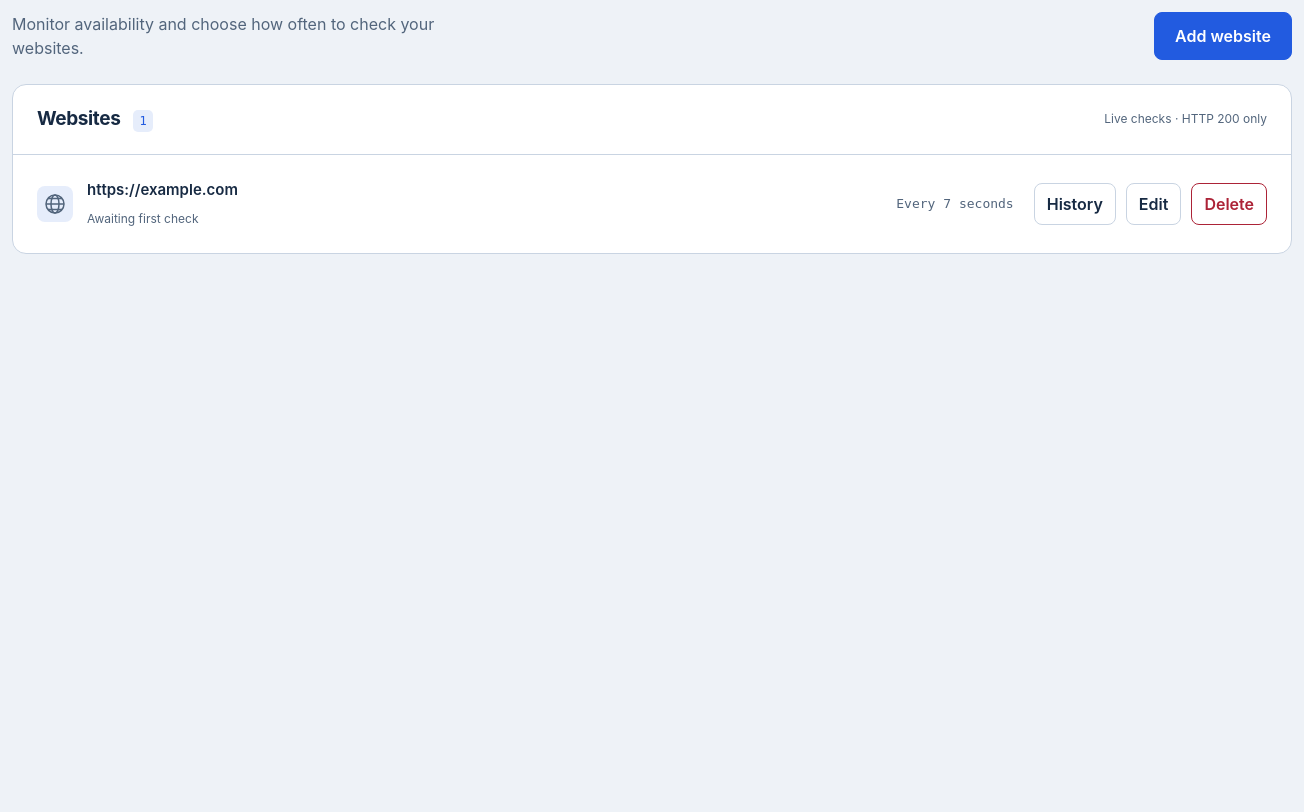
Test case: redirects when the session expires during edit
Expected: the text "https://example.com" is shown, [87,178,238,201]
Click the button "Edit" at (1154,204), box [1126,183,1181,225]
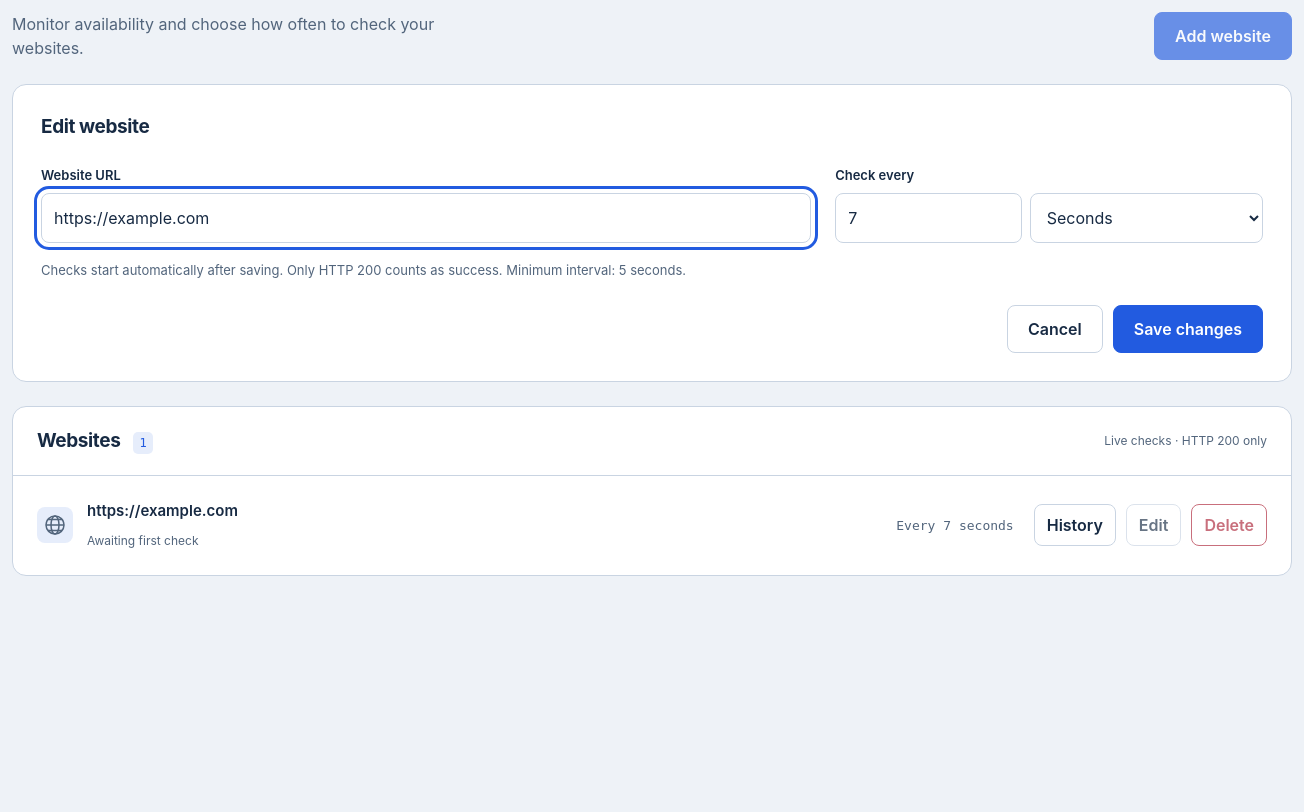
Click the button "Save changes" at (1188,328), box [1113,304,1263,352]
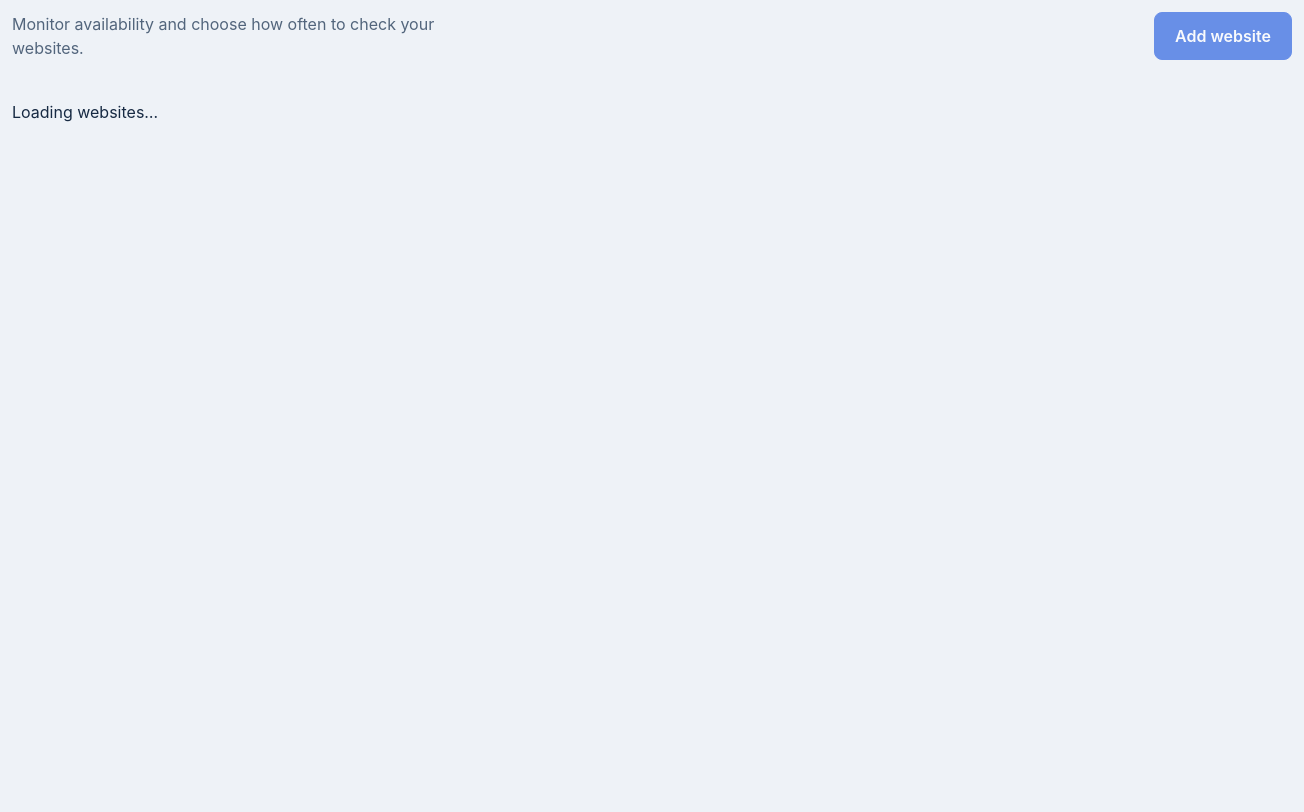
Result: the list item "https://example.com Awaiting first check Every 7 seconds History Edit Delete" is gone
